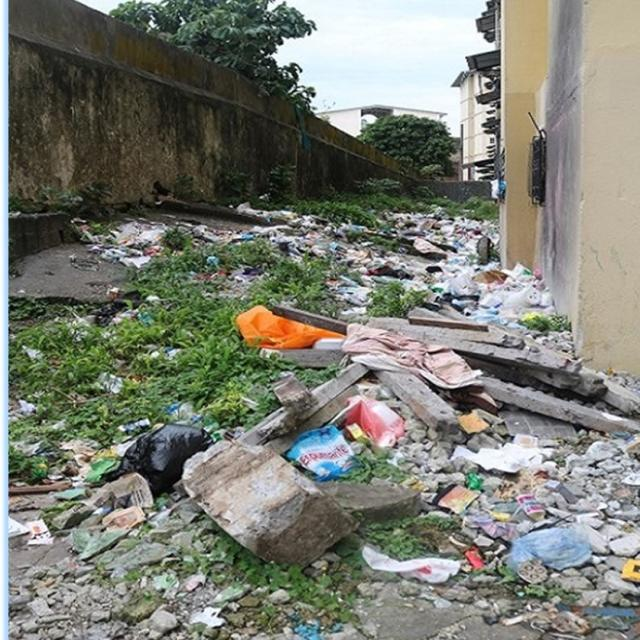garbage: (70, 184, 610, 634)
